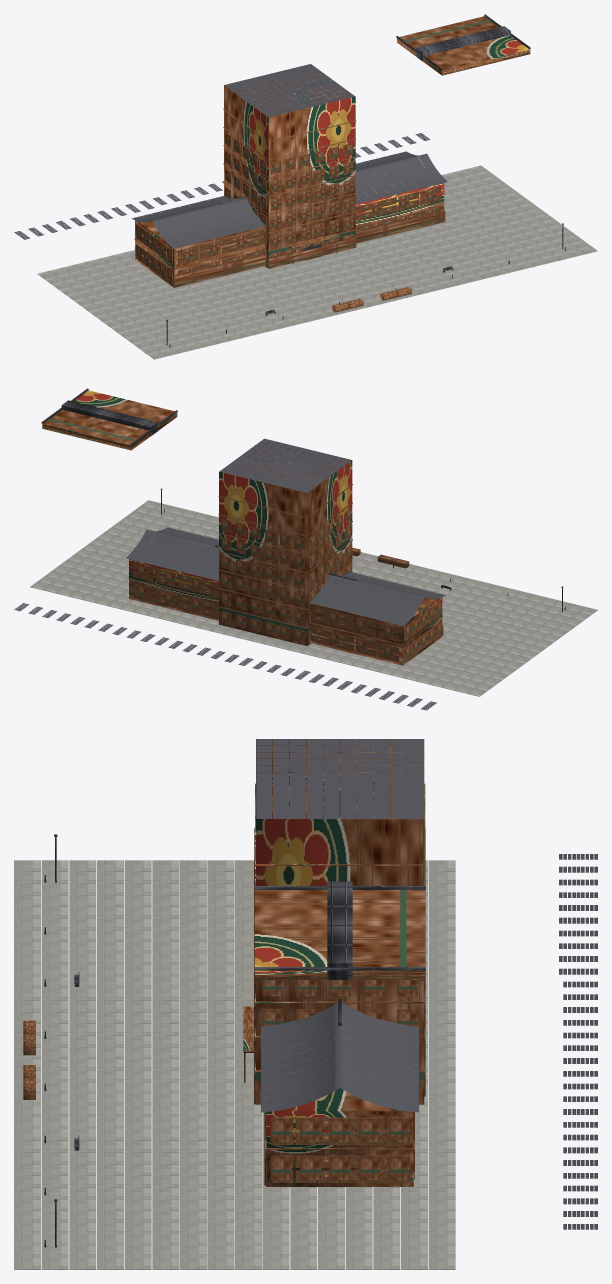
The picture shows the model from 3 angles, top to bottom: view 1: azimuth 30°, elevation 25°; view 2: azimuth 150°, elevation 25°; view 3: azimuth 270°, elevation 25°; orthographic projection. The views are drawn at different scales.
Visible parts, largest first — view 1: 11140_02_04550_034_01__plinth_ground_base, 11140_02_04550_034_02__mass_body_facade, 11140_02_04550_034_03__roof_deck_structure, 11140_02_04550_034_05__window_sash_glass, 11140_02_04550_034_03__roof_metal_ornament, 11140_02_04550_034_06__landscape_greenery; view 2: 11140_02_04550_034_02__mass_body_facade, 11140_02_04550_034_01__plinth_ground_base, 11140_02_04550_034_03__roof_deck_structure, 11140_02_04550_034_03__roof_metal_ornament; view 3: 11140_02_04550_034_01__plinth_ground_base, 11140_02_04550_034_02__mass_body_facade, 11140_02_04550_034_03__roof_deck_structure, 11140_02_04550_034_03__roof_metal_ornament, 11140_02_04550_034_06__landscape_greenery.
Part boxes in pixels (x1,y1,x2,y2): 11140_02_04550_034_01__plinth_ground_base: [37, 165, 597, 359]; 11140_02_04550_034_02__mass_body_facade: [134, 16, 530, 287]; 11140_02_04550_034_03__roof_deck_structure: [14, 64, 447, 248]; 11140_02_04550_034_05__window_sash_glass: [182, 161, 436, 280]; 11140_02_04550_034_03__roof_metal_ornament: [219, 14, 530, 204]; 11140_02_04550_034_06__landscape_greenery: [332, 287, 411, 312]; 11140_02_04550_034_02__mass_body_facade: [42, 390, 443, 665]; 11140_02_04550_034_01__plinth_ground_base: [30, 500, 597, 696]; 11140_02_04550_034_03__roof_deck_structure: [14, 438, 445, 710]; 11140_02_04550_034_03__roof_metal_ornament: [41, 388, 356, 580]; 11140_02_04550_034_01__plinth_ground_base: [14, 860, 455, 1269]; 11140_02_04550_034_02__mass_body_facade: [243, 739, 425, 1186]; 11140_02_04550_034_03__roof_deck_structure: [256, 739, 597, 1229]; 11140_02_04550_034_03__roof_metal_ornament: [254, 881, 425, 1025]; 11140_02_04550_034_06__landscape_greenery: [23, 1020, 35, 1099].
Bounding box in the file's own units: 91.95 × 31.8 × 55.48.
7 materials, 7 textured.
